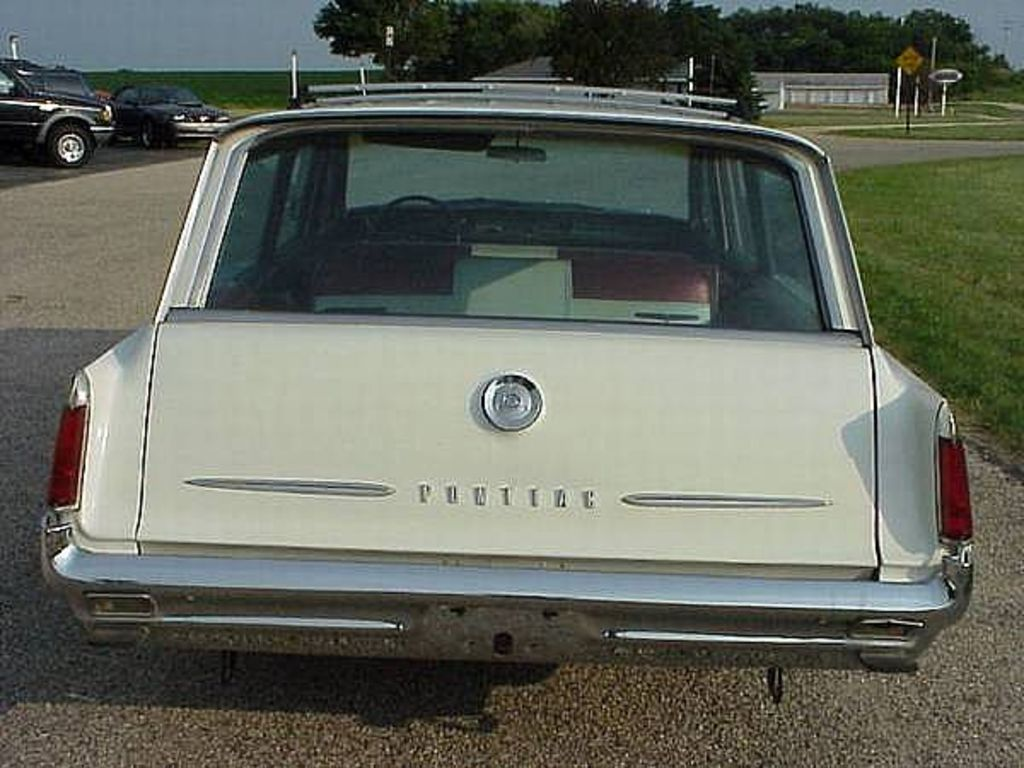Car: (47, 83, 984, 680), (0, 61, 114, 165), (109, 81, 226, 155)
